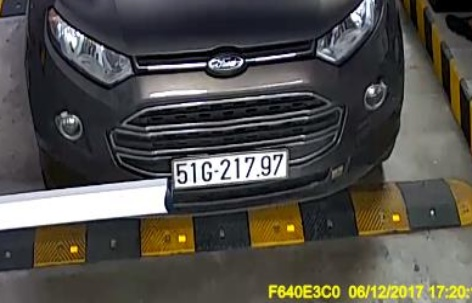plate: (170, 147, 289, 187)
